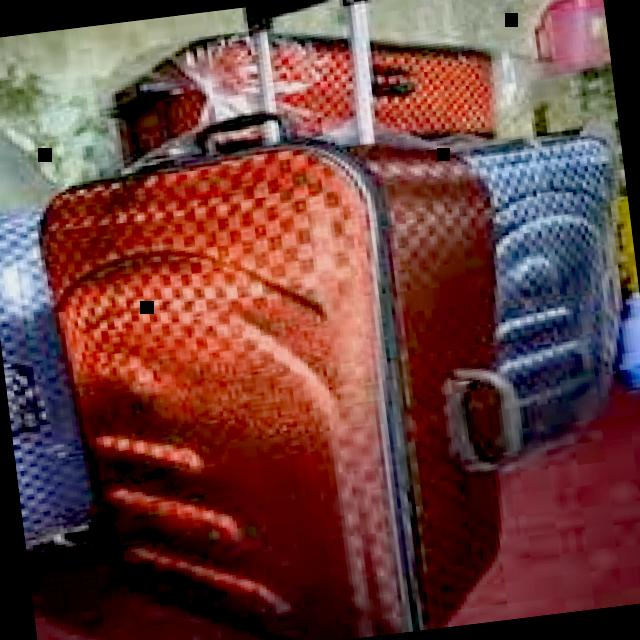luggage: (17, 72, 548, 640)
